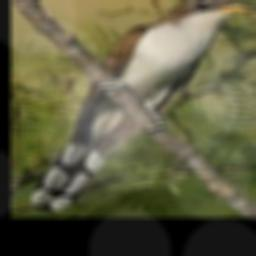Cuckoo: (29, 0, 256, 210)
